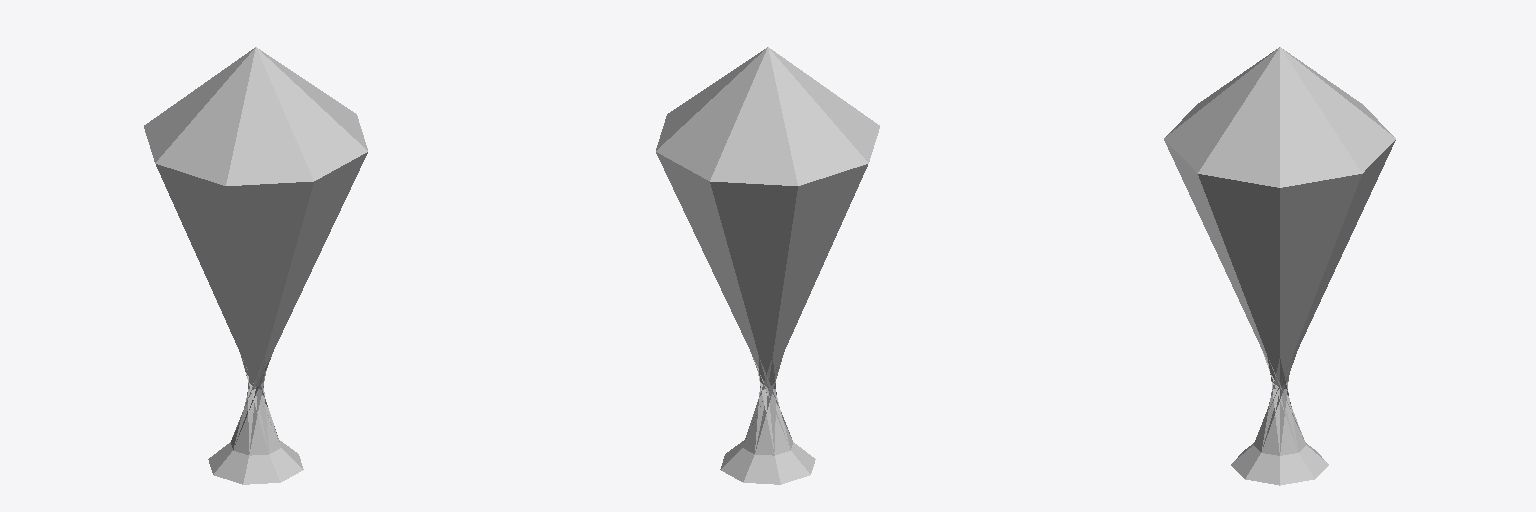
Rendered from crystal.obj.
3 renders of one model, left to right at view 1: azimuth 30°, elevation 25°; view 2: azimuth 150°, elevation 25°; view 3: azimuth 270°, elevation 25°, orthographic.
Visible parts, largest first — view 1: Cylinder.001; view 2: Cylinder.001; view 3: Cylinder.001.
Part boxes in pixels (x1,y1,x2,y2): Cylinder.001: (144, 47, 367, 484); Cylinder.001: (656, 47, 879, 484); Cylinder.001: (1164, 47, 1395, 485).
Bounding box in the file's own units: 1.38 × 2.73 × 1.38.